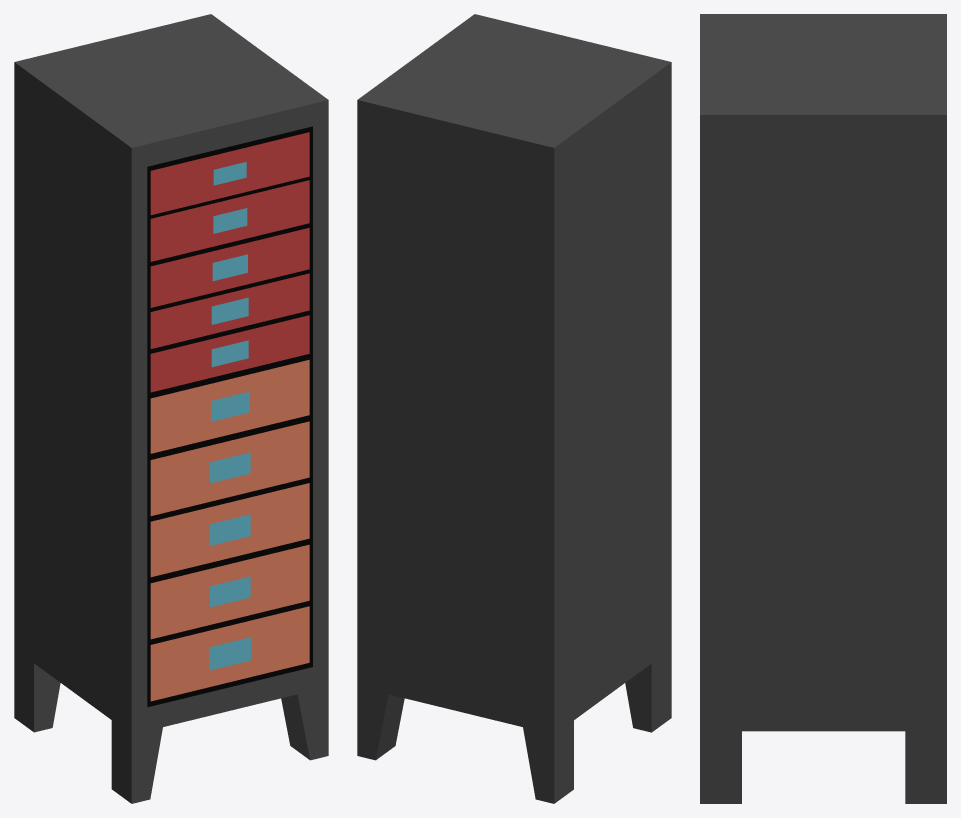
File: LobbyFileCabinets.fbx
The picture shows the model from 3 angles, left to right: view 1: azimuth 30°, elevation 25°; view 2: azimuth 150°, elevation 25°; view 3: azimuth 270°, elevation 25°; orthographic projection. The views are drawn at different scales.
Parts seen in each view (by area): view 1: FileCabinet; view 2: FileCabinet; view 3: FileCabinet.
Part boxes in pixels (x1,y1,x2,y2): FileCabinet: (14, 14, 328, 803); FileCabinet: (357, 14, 671, 803); FileCabinet: (700, 14, 946, 803).
Size of the model in its own units: 12.92 by 41.13 by 13.34.
